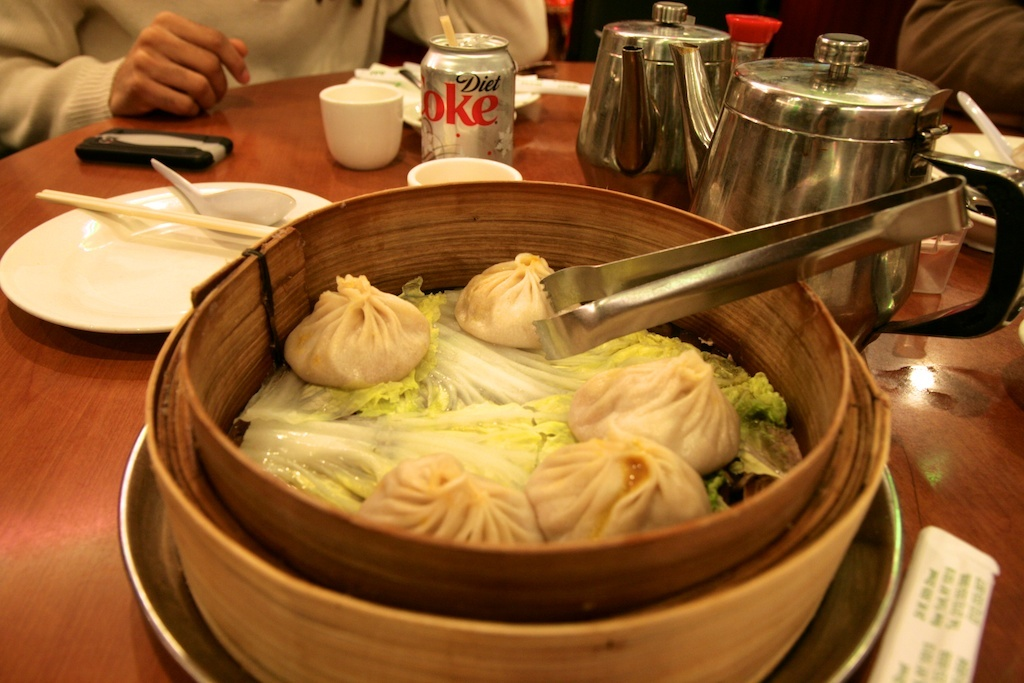person: (1, 0, 552, 155)
